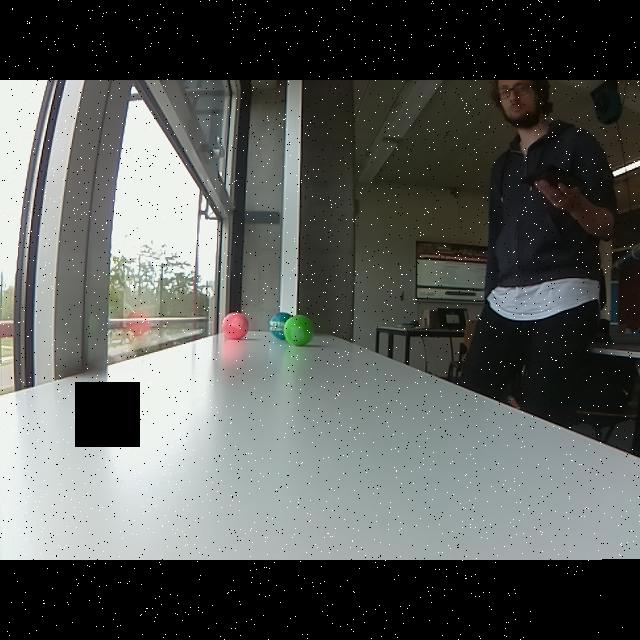ball: (282, 313, 316, 346), (220, 310, 250, 341)
